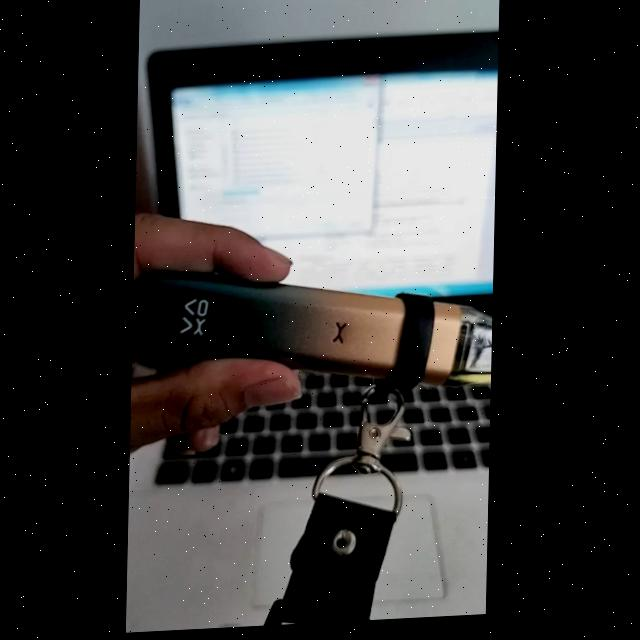vape: (133, 257, 495, 409)
